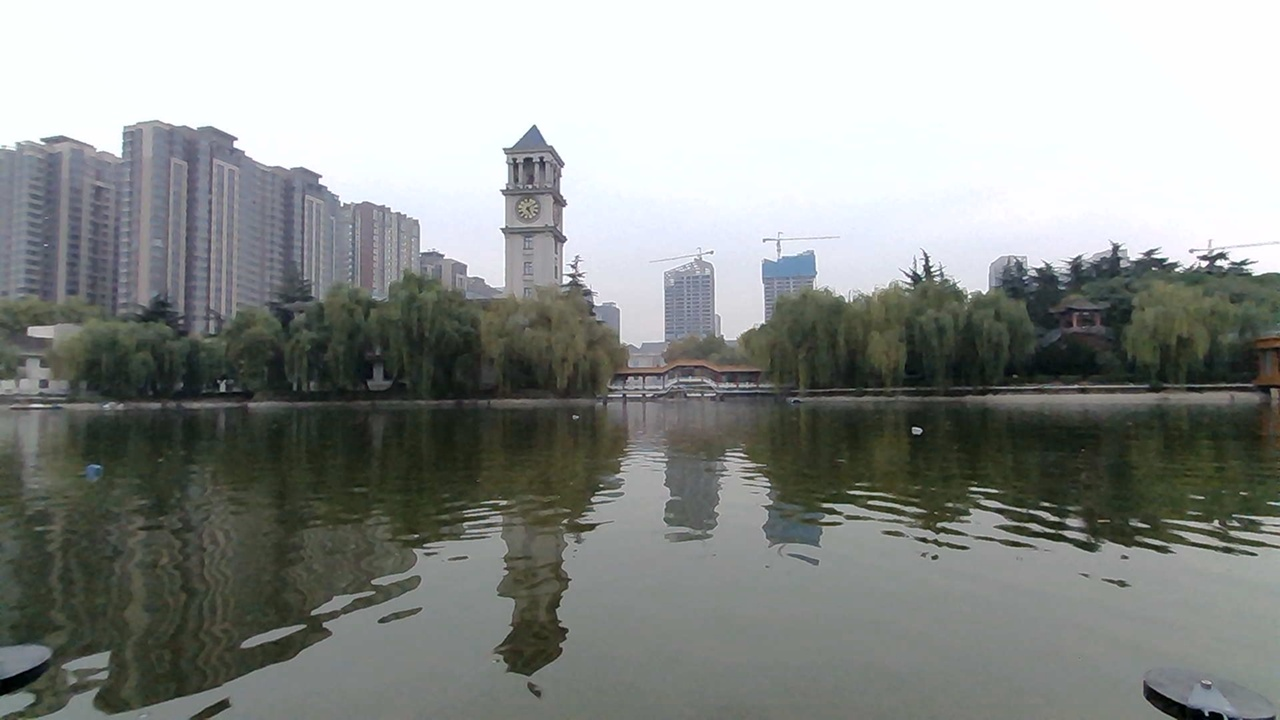bottle: (80, 457, 117, 485), (903, 412, 935, 441)
